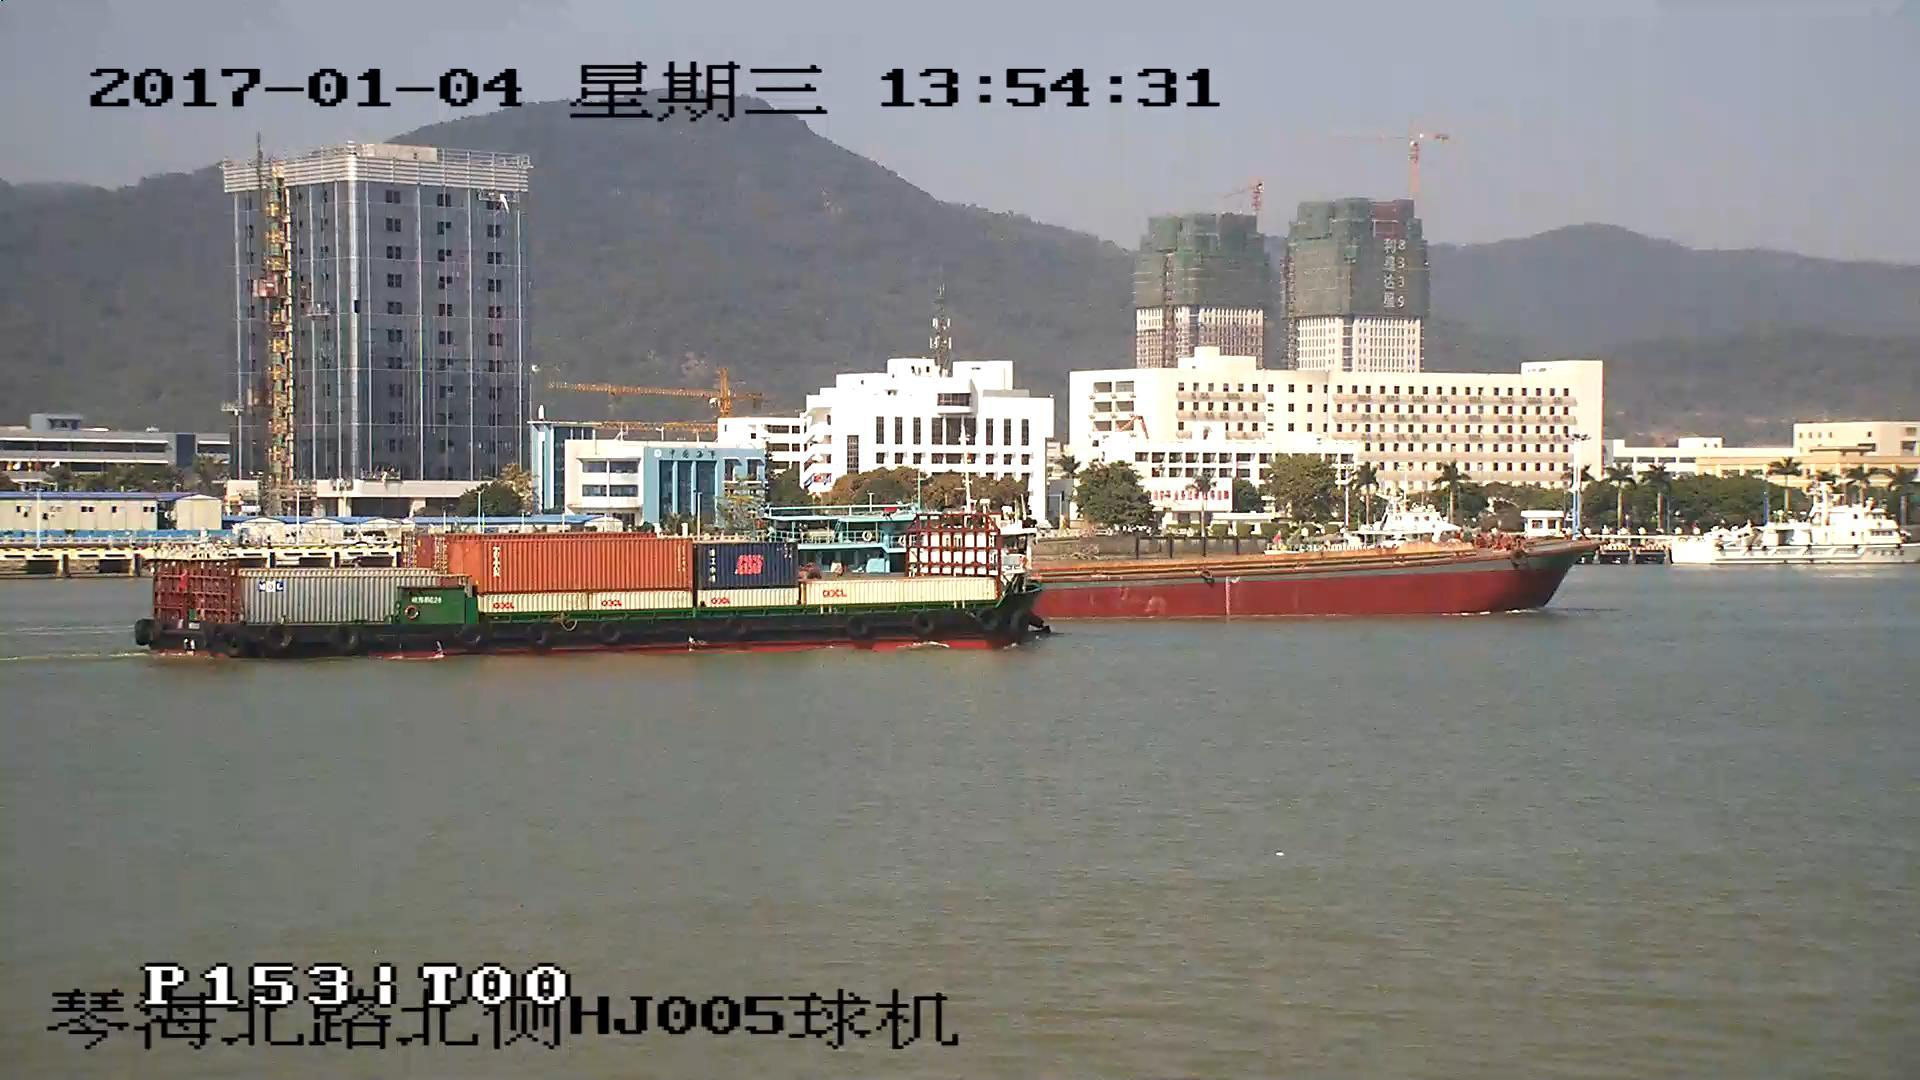Ship: (138, 525, 1050, 655), (1050, 537, 1610, 622)
